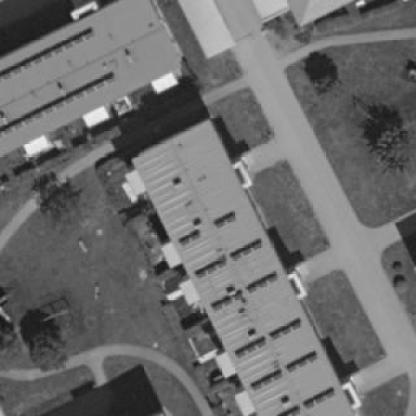solar-pv-panel: (0, 75, 116, 139), (0, 31, 94, 83), (252, 372, 283, 391), (305, 391, 336, 410), (288, 354, 319, 373), (197, 261, 227, 280), (236, 340, 266, 359), (250, 276, 280, 295), (232, 243, 262, 262), (272, 322, 302, 341), (214, 293, 244, 312), (180, 233, 201, 247), (215, 215, 236, 229), (286, 409, 300, 416)
